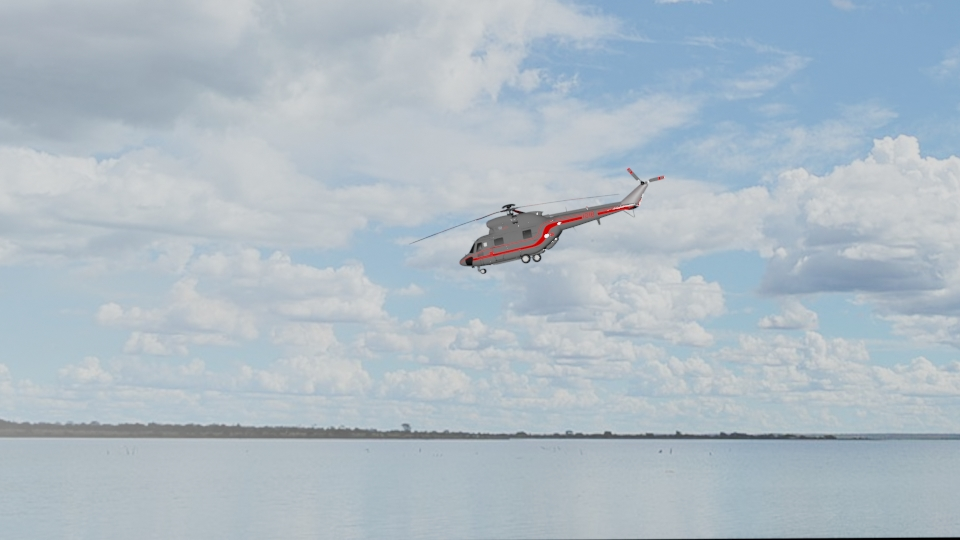heli: (455, 162, 662, 275)
